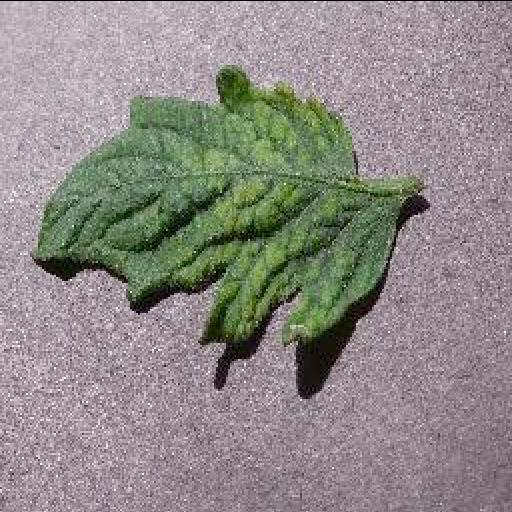Mosaic Virus: (30, 66, 406, 344)
